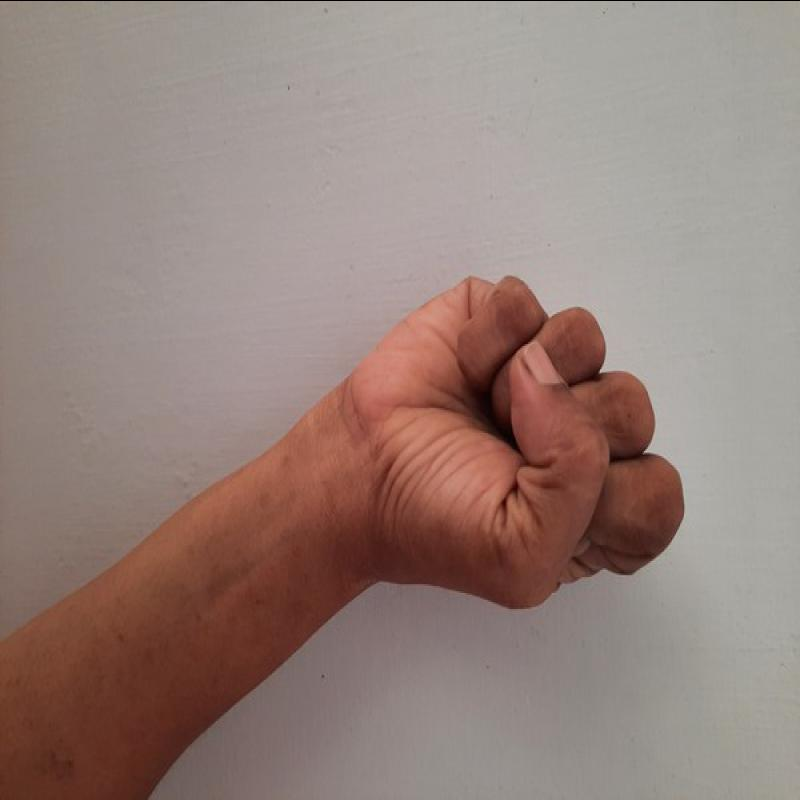Mushti: (321, 244, 708, 662)
